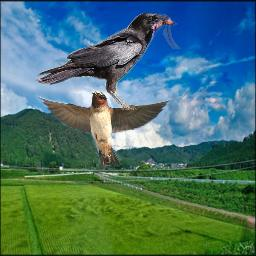Crow: (35, 9, 186, 110)
Swallow: (33, 90, 173, 168)
